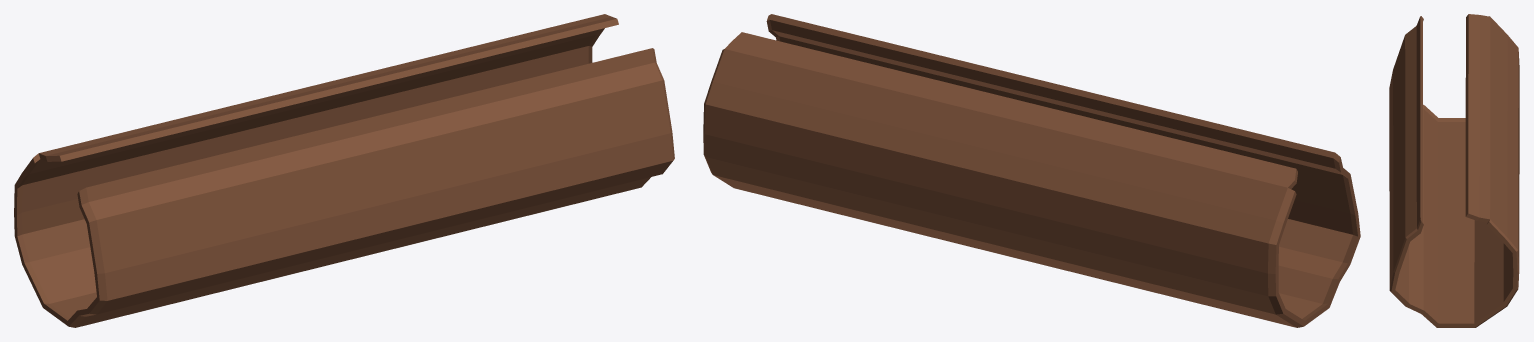
The model's file is TRUNK.fbx.
3 views of the same model, side by side, from view 1: azimuth 30°, elevation 25°; view 2: azimuth 150°, elevation 25°; view 3: azimuth 270°, elevation 25° (orthographic). The views are drawn at different scales.
Parts seen in each view (by area): view 1: Cylinder; view 2: Cylinder; view 3: Cylinder.
Part boxes in pixels (x1=…): Cylinder: x1=14, y1=14, x2=674, y2=327; Cylinder: x1=703, y1=14, x2=1360, y2=327; Cylinder: x1=1389, y1=14, x2=1519, y2=327.
Bounding box in the file's own units: 3815 × 989 × 1016.
